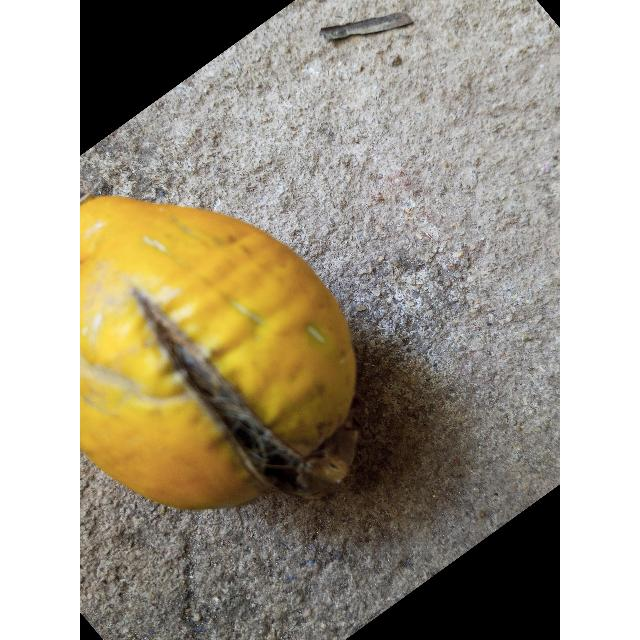damaged: (80, 197, 358, 514)
